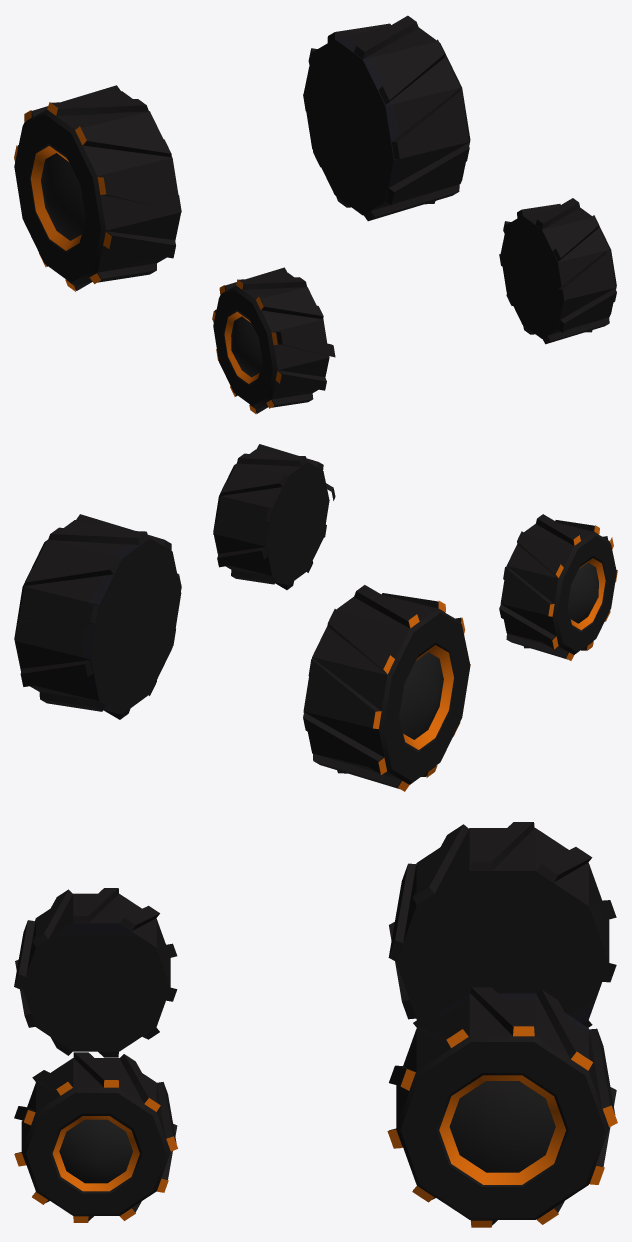
File: TankWheel00R01.gltf
The picture shows the model from 3 angles, top to bottom: view 1: azimuth 30°, elevation 25°; view 2: azimuth 150°, elevation 25°; view 3: azimuth 270°, elevation 25°; orthographic projection. The views are drawn at different scales.
Parts seen in each view (by area): view 1: TankWheel00R01; view 2: TankWheel00R01; view 3: TankWheel00R01.
Boxes of the visible parts, bbox=[...] form: TankWheel00R01: bbox=[14, 15, 616, 414]; TankWheel00R01: bbox=[14, 444, 617, 791]; TankWheel00R01: bbox=[14, 822, 617, 1227].
Size of the model in its own units: 0.2431 by 0.103 by 0.2779.
